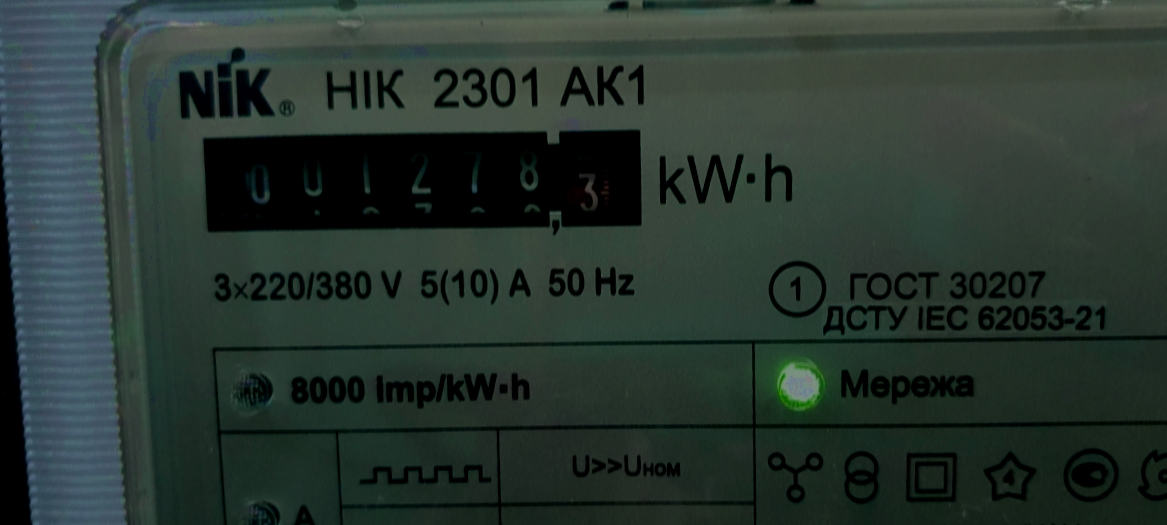0: (242, 157, 272, 207), (295, 151, 322, 198)
1: (354, 148, 373, 197)
2: (402, 147, 431, 195), (569, 141, 596, 163)
3: (570, 166, 598, 211)
7: (457, 145, 482, 195)
8: (511, 145, 539, 193)
screen: (176, 95, 660, 263)
